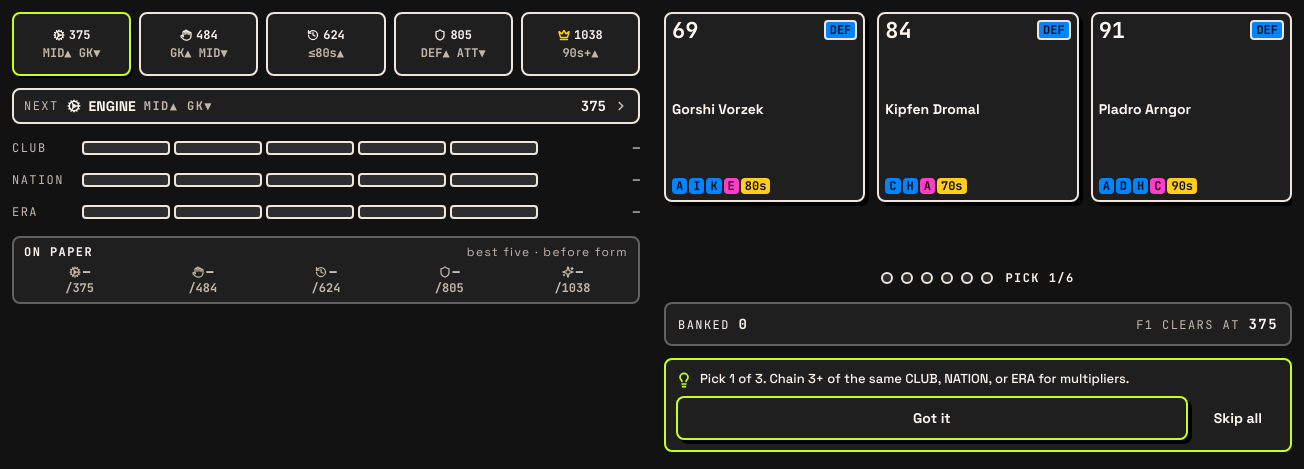
Test: F4 — coach marks › selecting an offer dismisses the draft mark — the control was found
Click the button with test id "draw-offer-0". click: (765, 107)
box: [664,12,865,202]
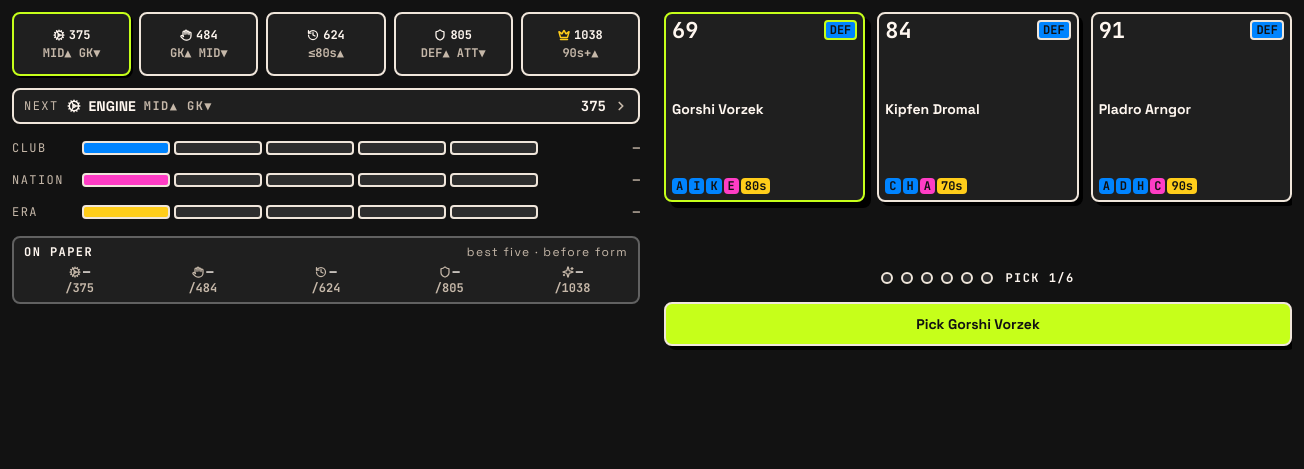
expect the message with test id "draw-coach-draft" is gone: met
